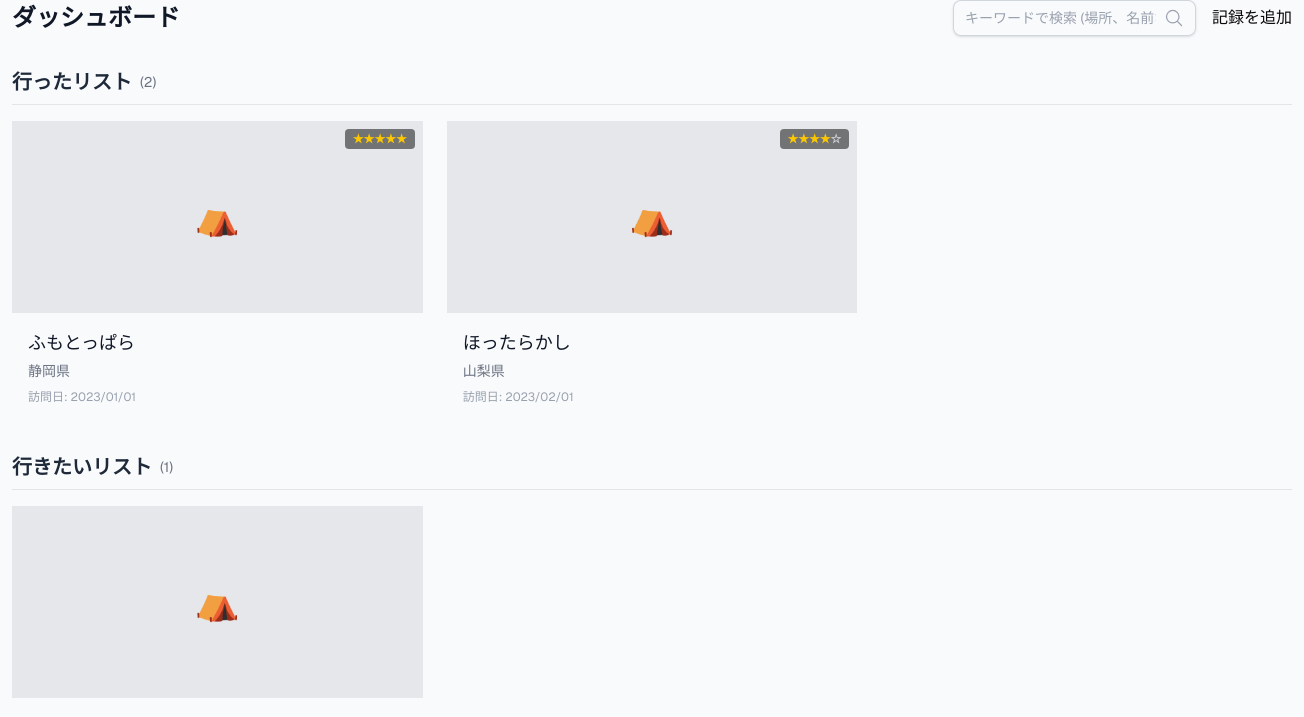
Test: DashboardClient › filters by location
Search for "山梨"
Step 1. Type "山梨" into the field with placeholder "キーワードで検索 (場所、名前など)..." → (1074, 18), box [953,0,1196,36]
(page scrolled)
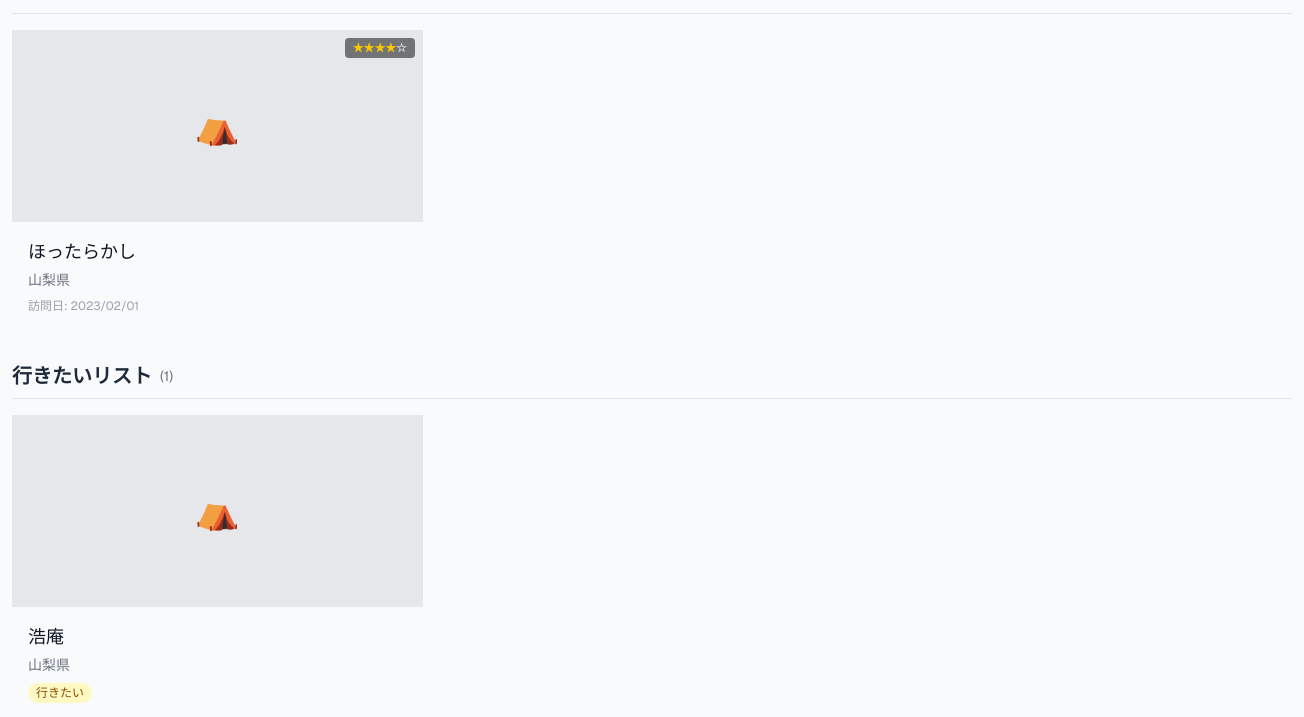
Expected: the heading "ほったらかし" is shown, [28,240,136,263]
Expected: the link "ふもとっぱら" is gone
